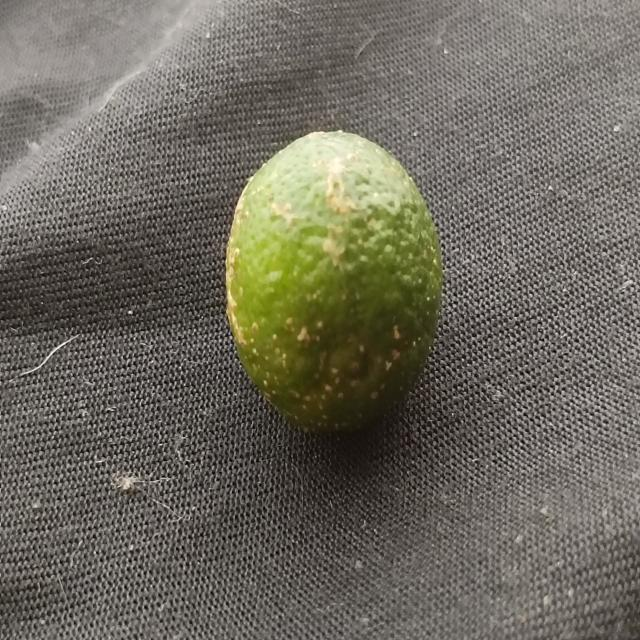scab: (226, 130, 440, 437)
